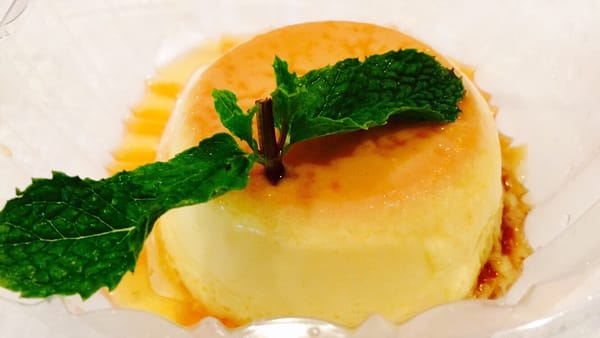soup: (106, 19, 518, 328)
